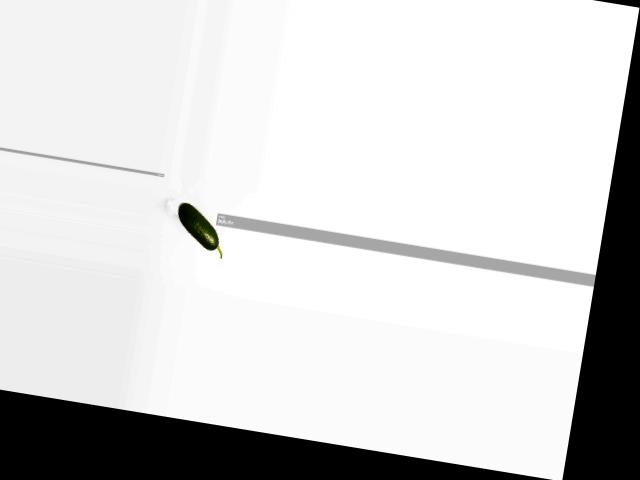cucumber: (173, 201, 231, 258)
